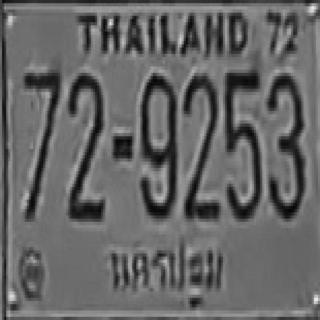N02: (182, 73, 220, 221), (66, 71, 103, 220)
N03: (266, 70, 306, 219)
N05: (223, 66, 262, 222)
N07: (23, 66, 60, 218)
N09: (138, 70, 177, 218)
P28: (101, 236, 225, 313)
